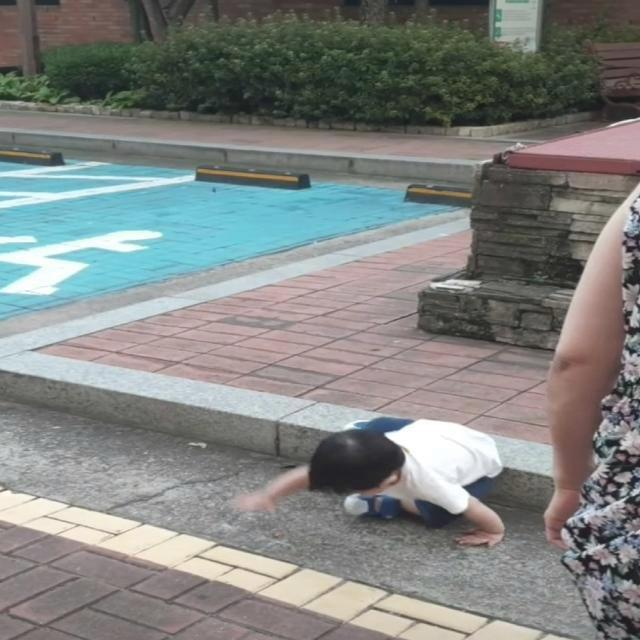child: (233, 410, 510, 550)
